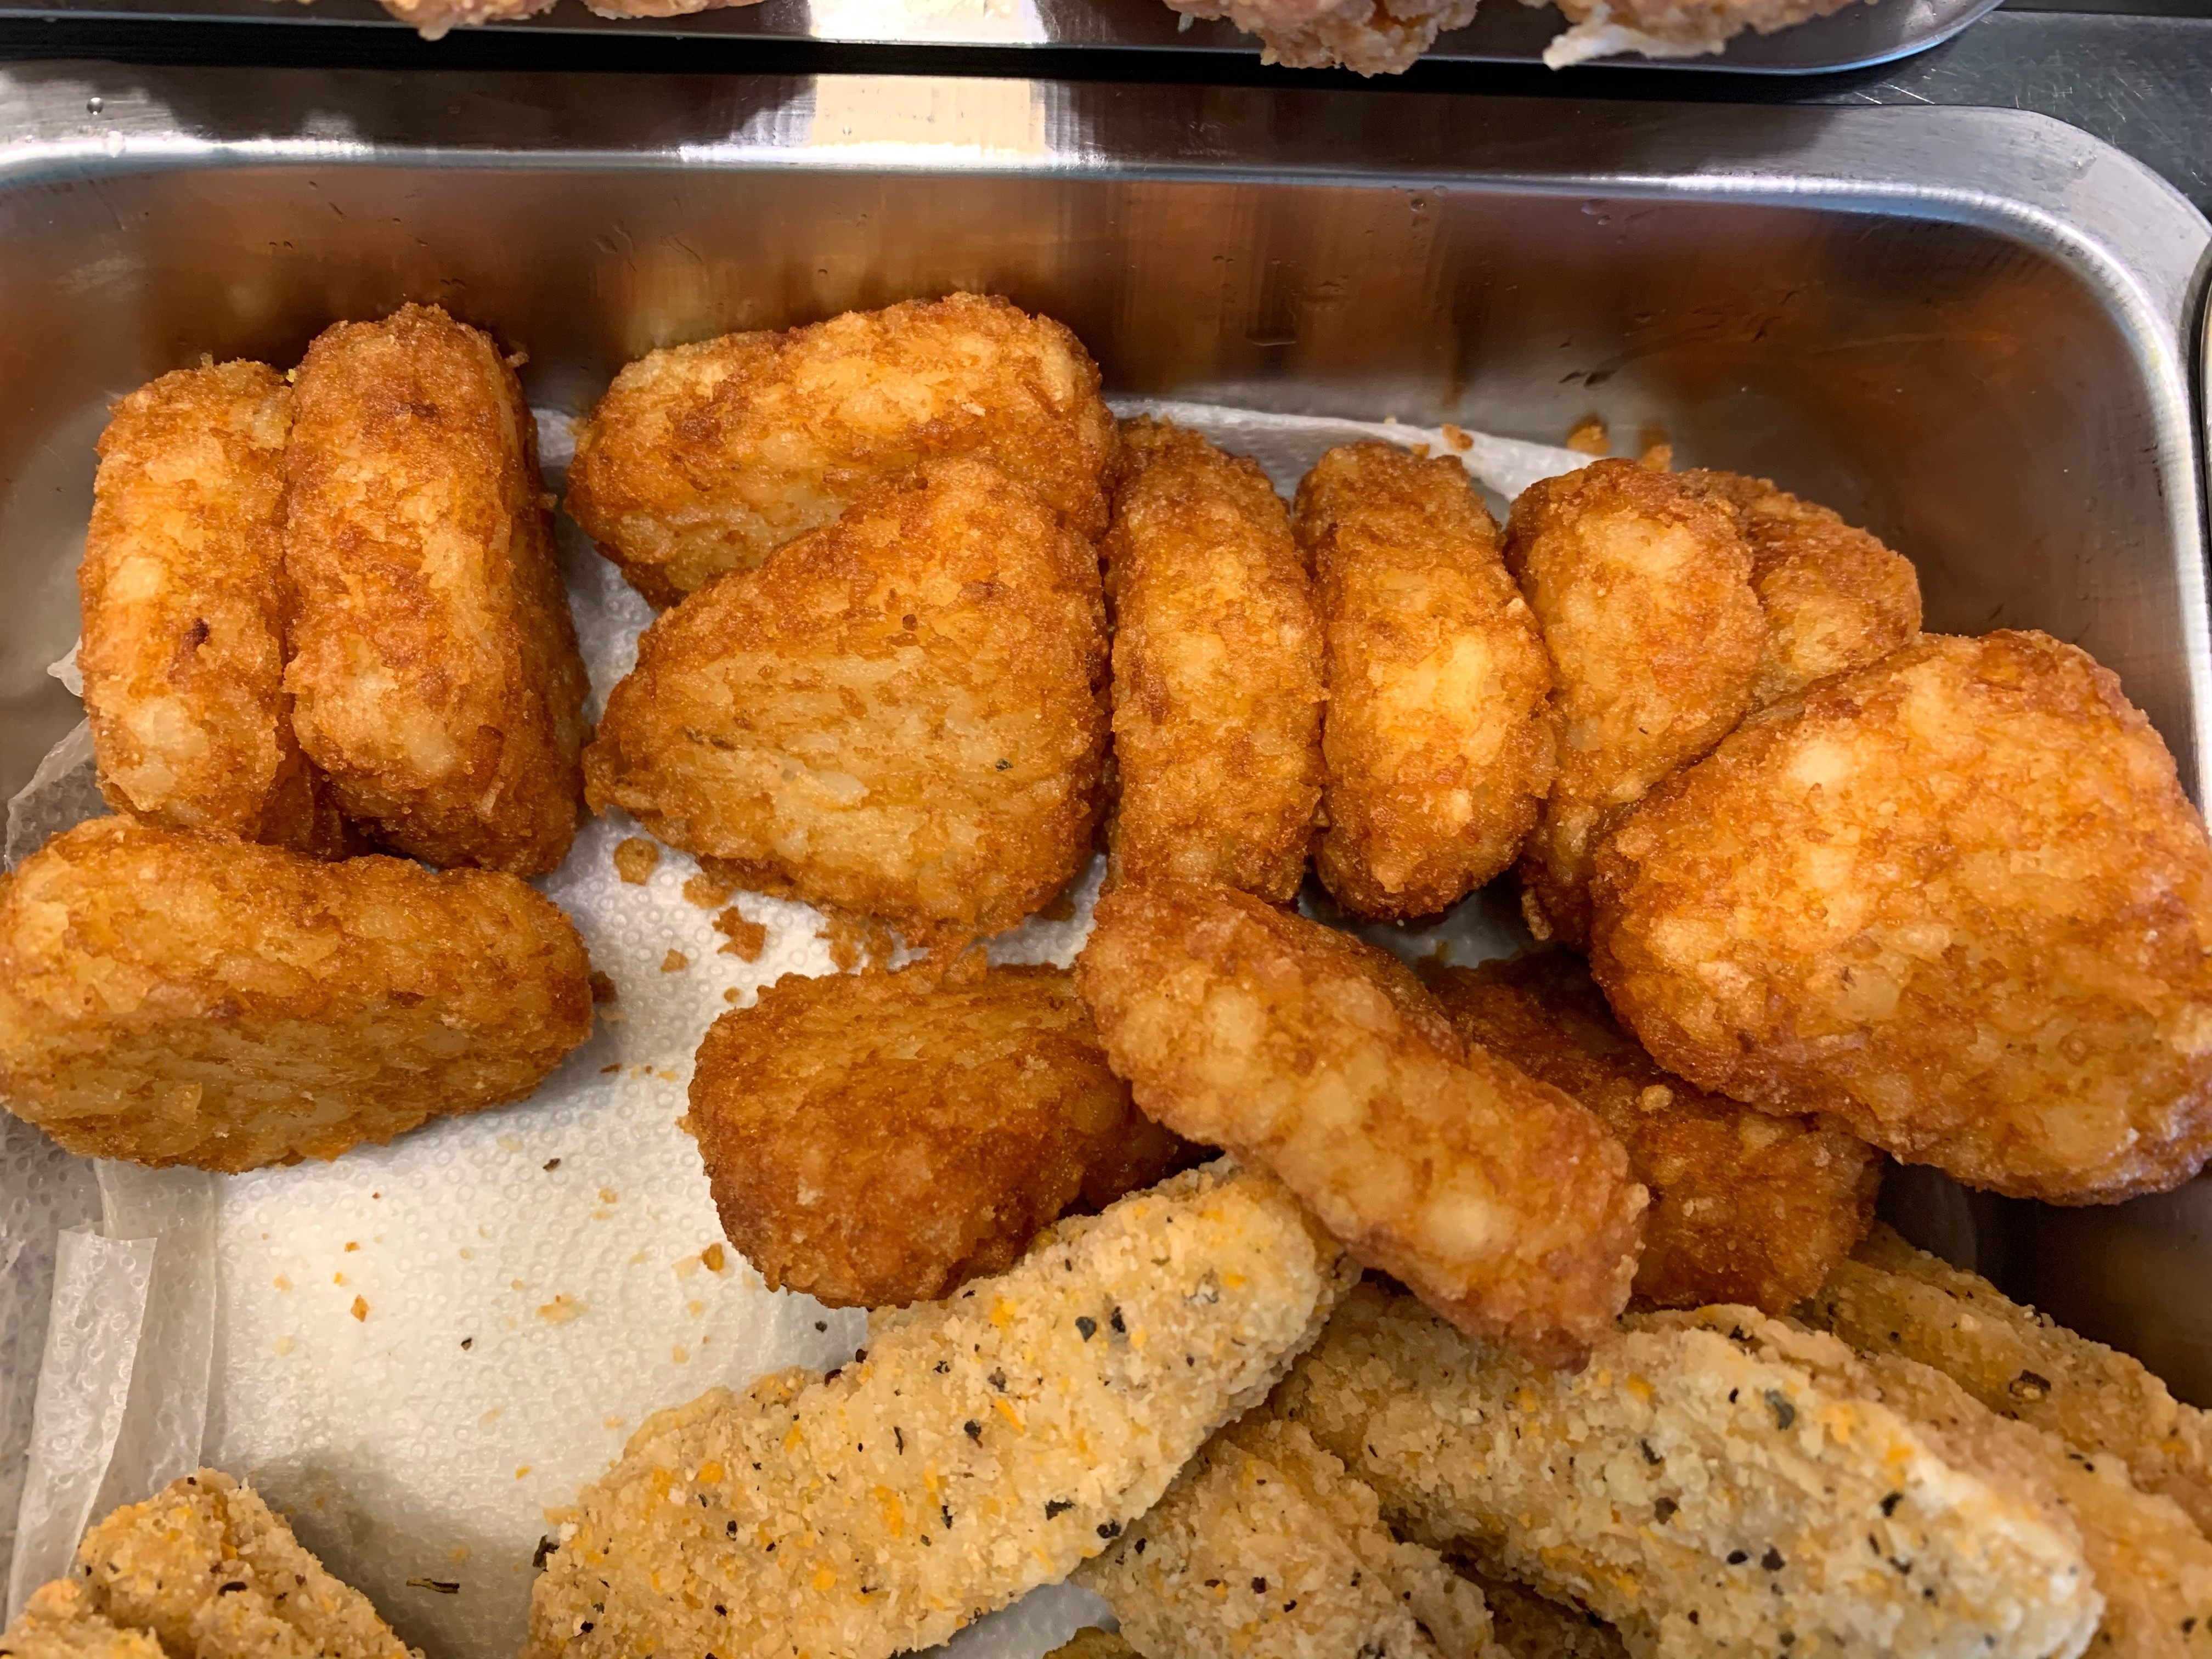triangle_hash_brown: (0, 321, 2212, 1256)
